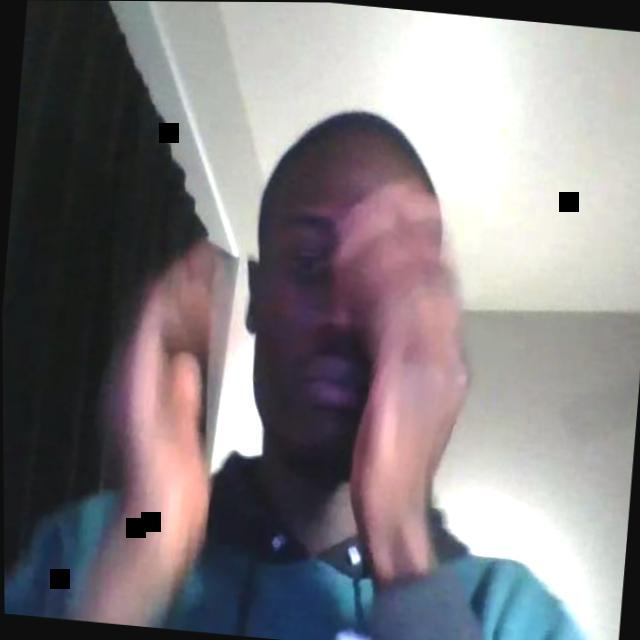NO-Mask: (240, 200, 387, 488)
